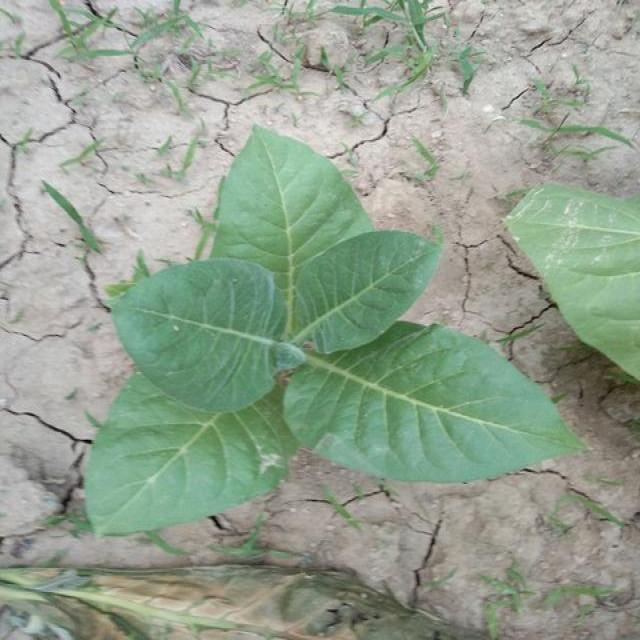crop: (83, 138, 566, 548), (518, 175, 640, 396)
